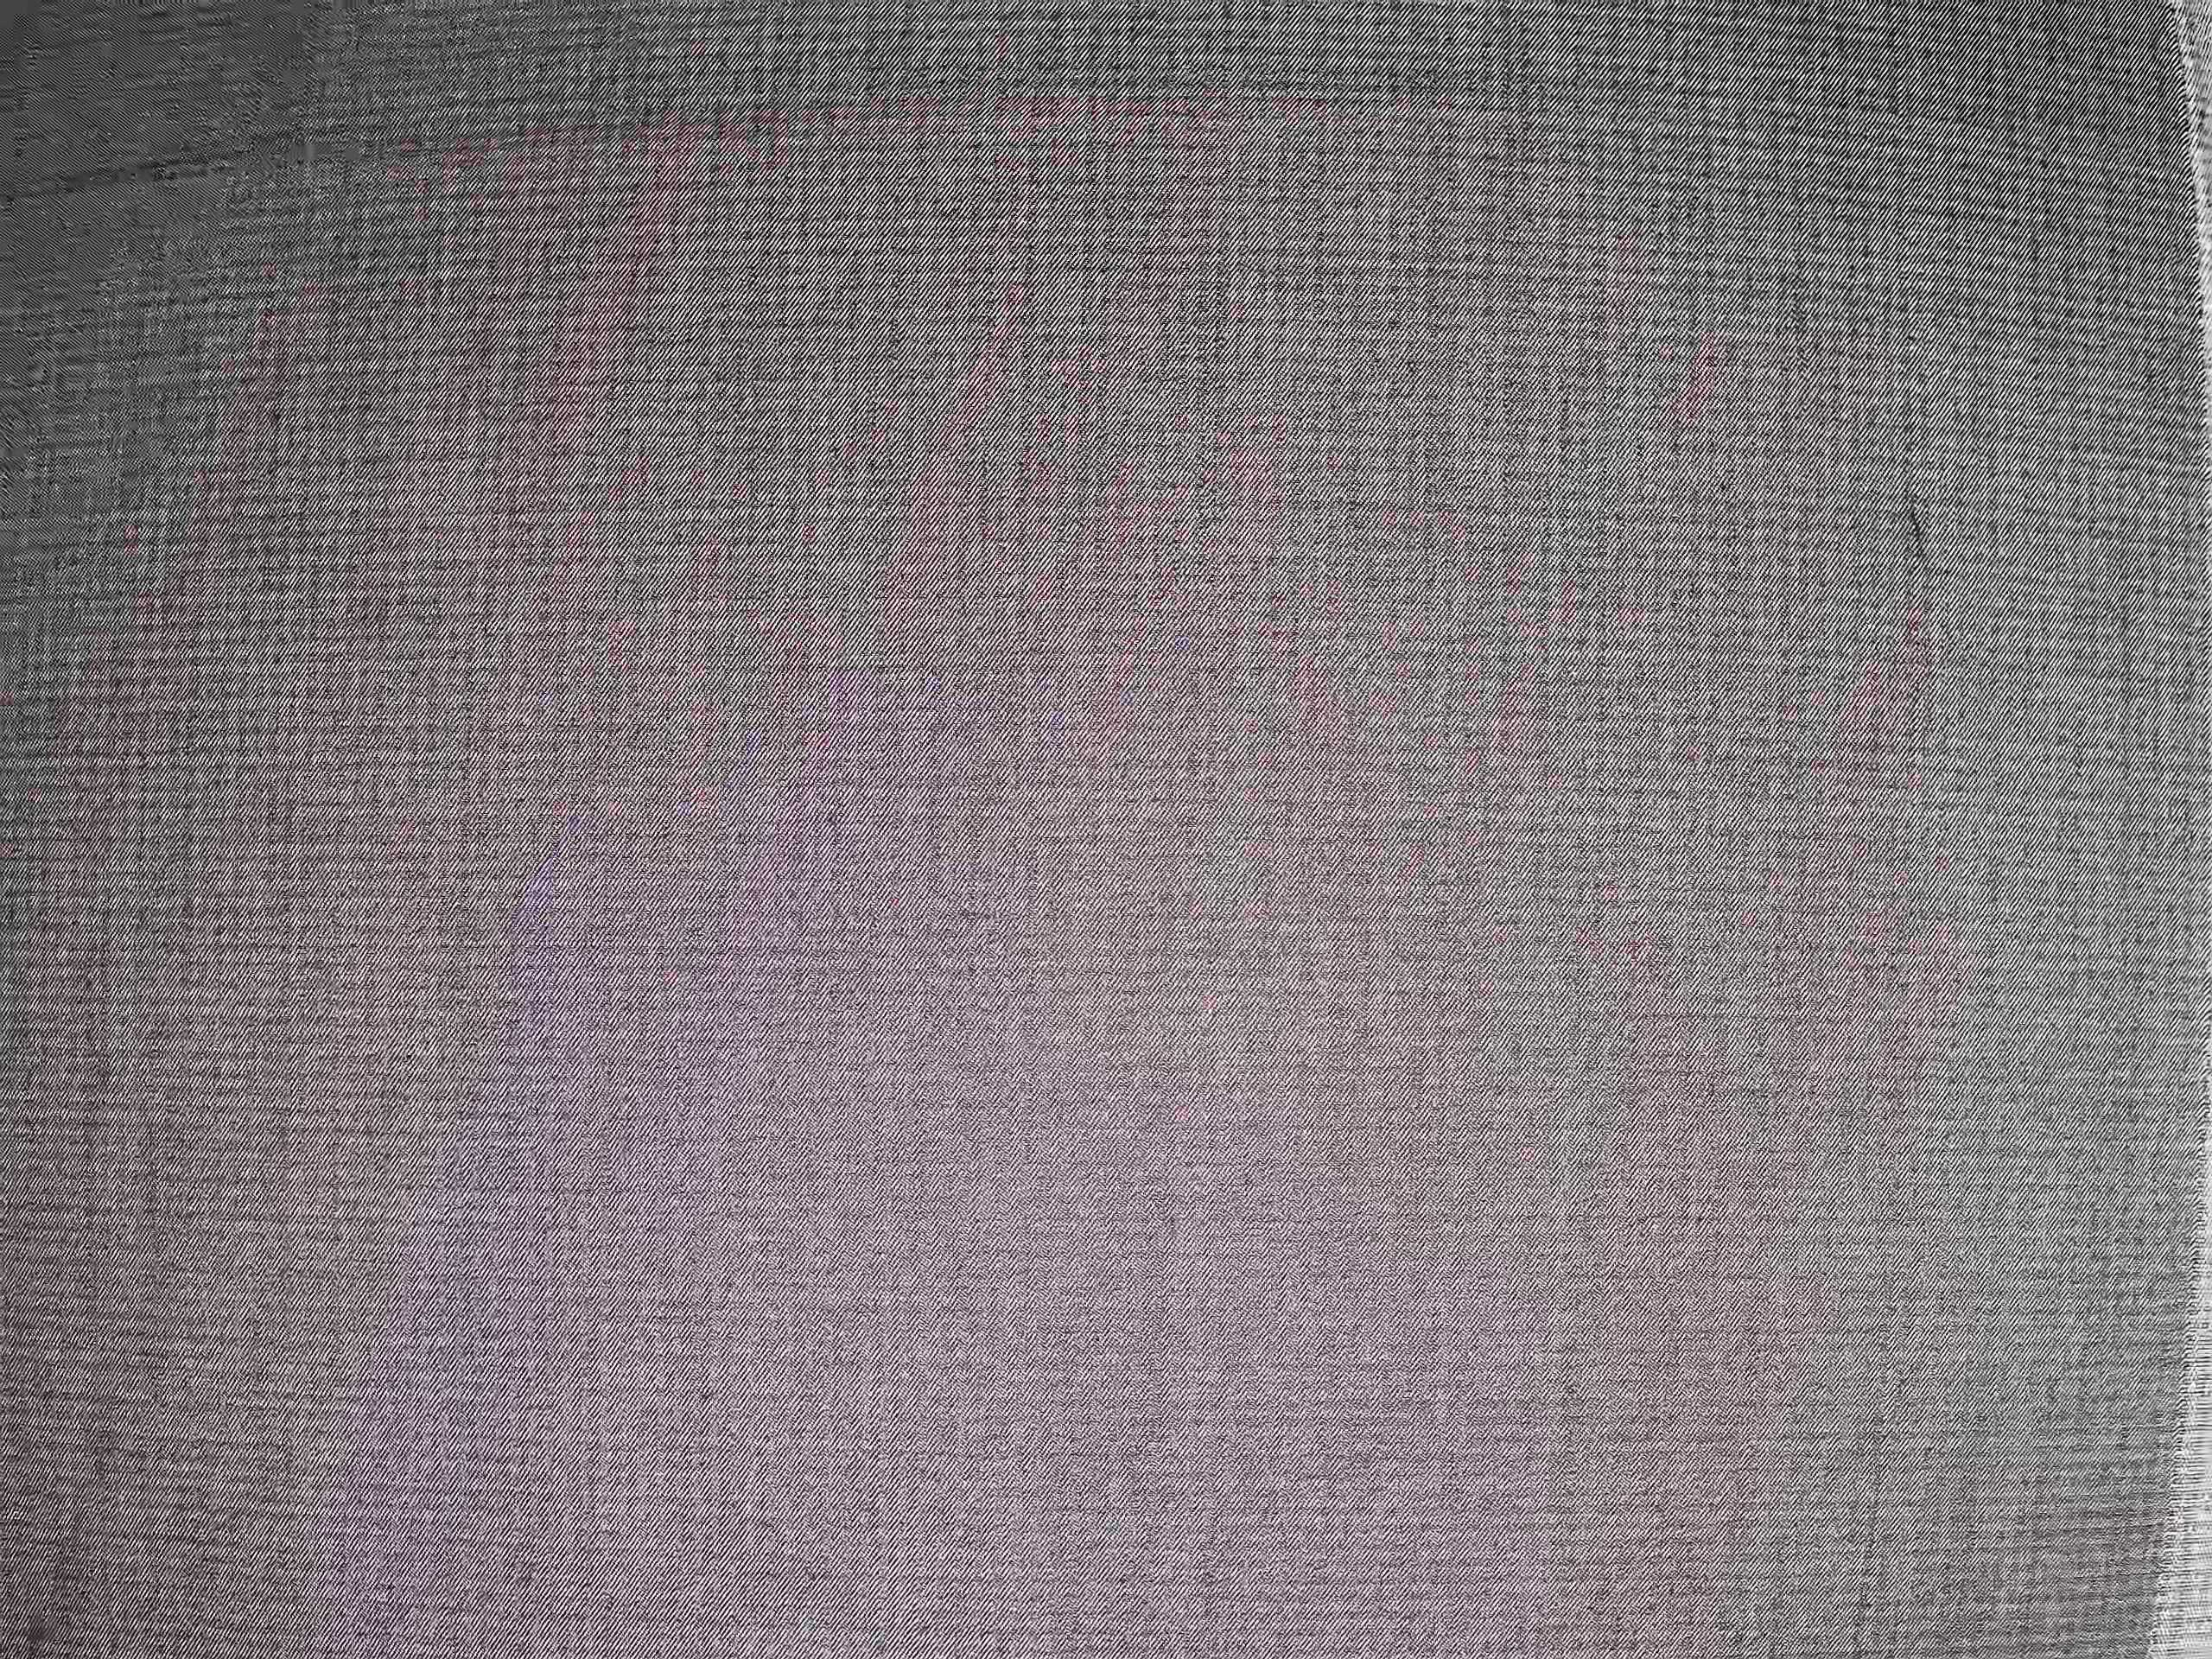hanging-warp: (1881, 350, 1952, 735)
